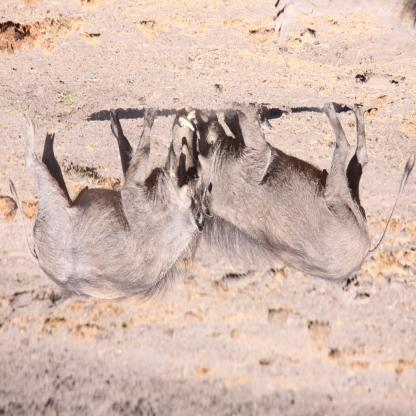boar: (186, 106, 416, 288), (9, 108, 205, 305)
